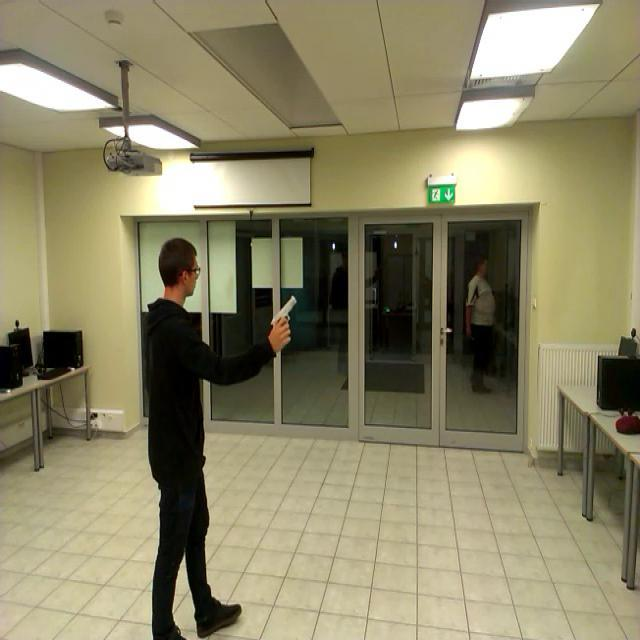Gun: (270, 294, 296, 338)
